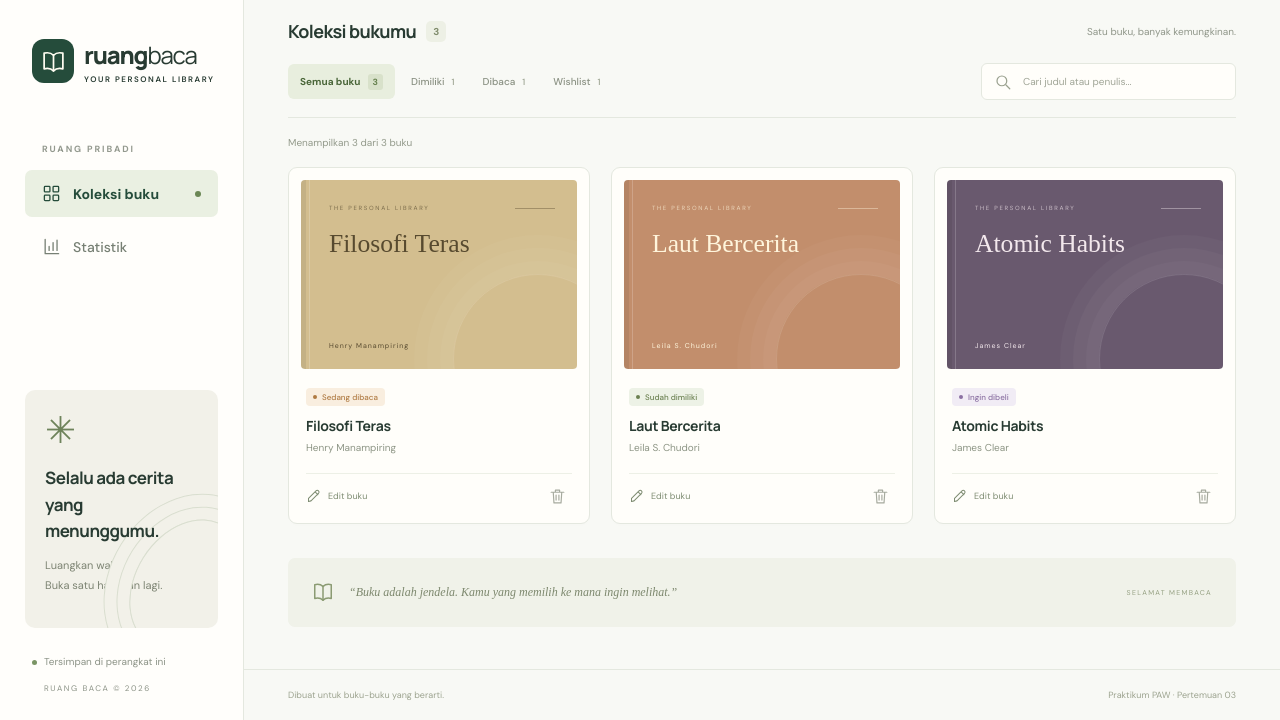
Aplikasi manajemen buku › Escape menutup konfirmasi dan mengembalikan fokus ke tombol hapus
(page scrolled)
Click the button named "Hapus Filosofi Teras".
click(558, 496)  # box left=543, top=482, right=572, bottom=511
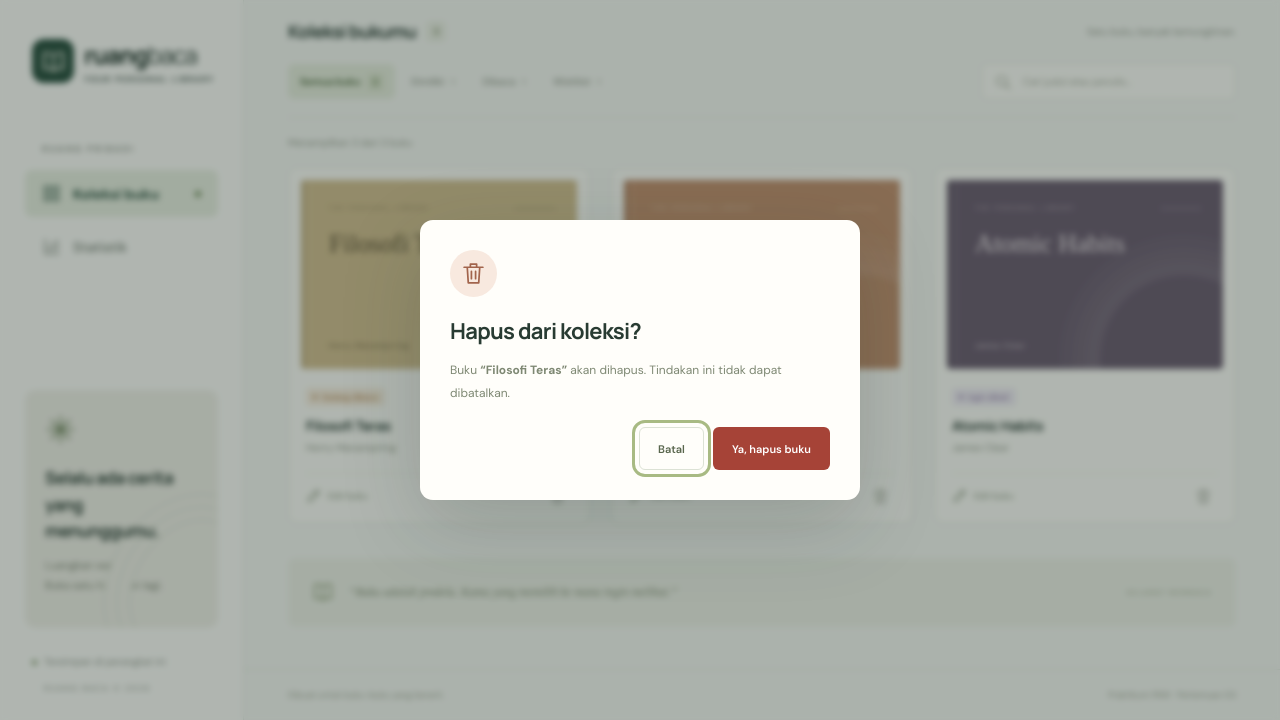
Press Escape
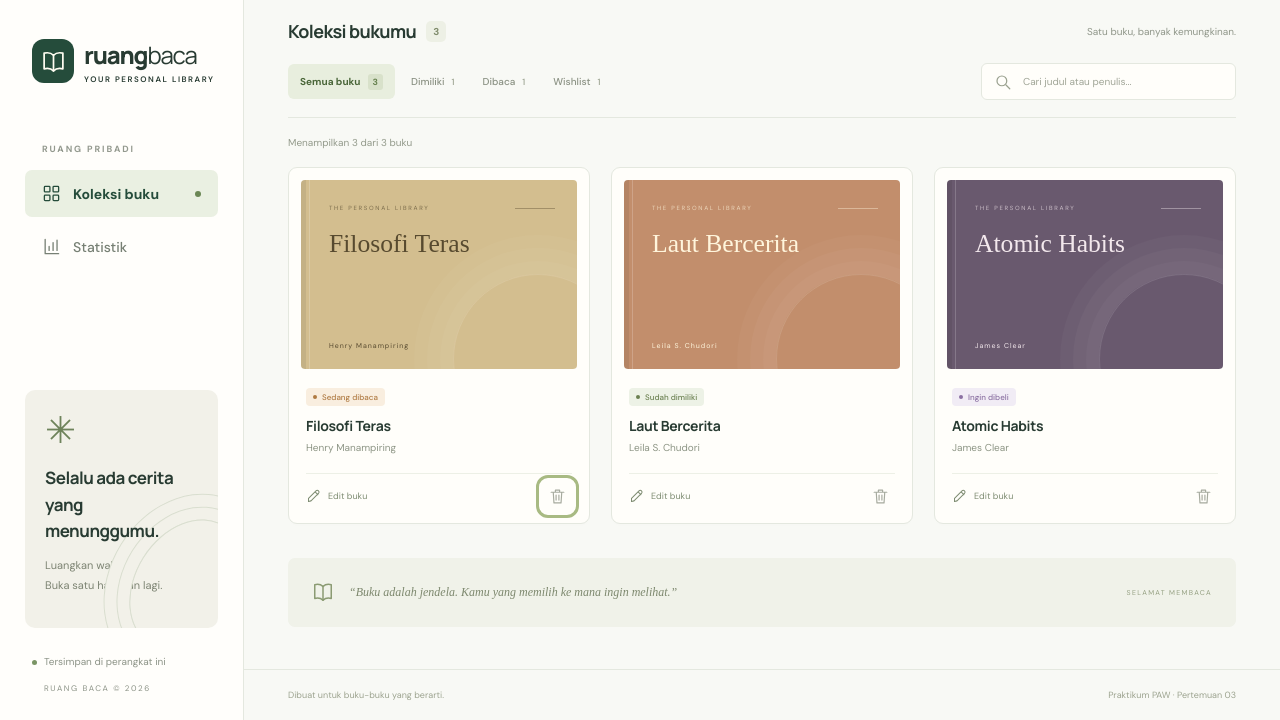
Expected: the dialog is gone
